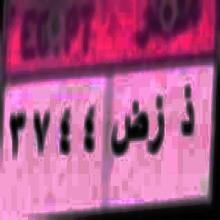3: (7, 106, 28, 168)
4: (78, 98, 100, 165), (58, 100, 73, 167)
7: (33, 103, 54, 166)
daad: (110, 96, 148, 165)
zaal: (178, 83, 195, 146)
zay: (149, 90, 166, 164)
